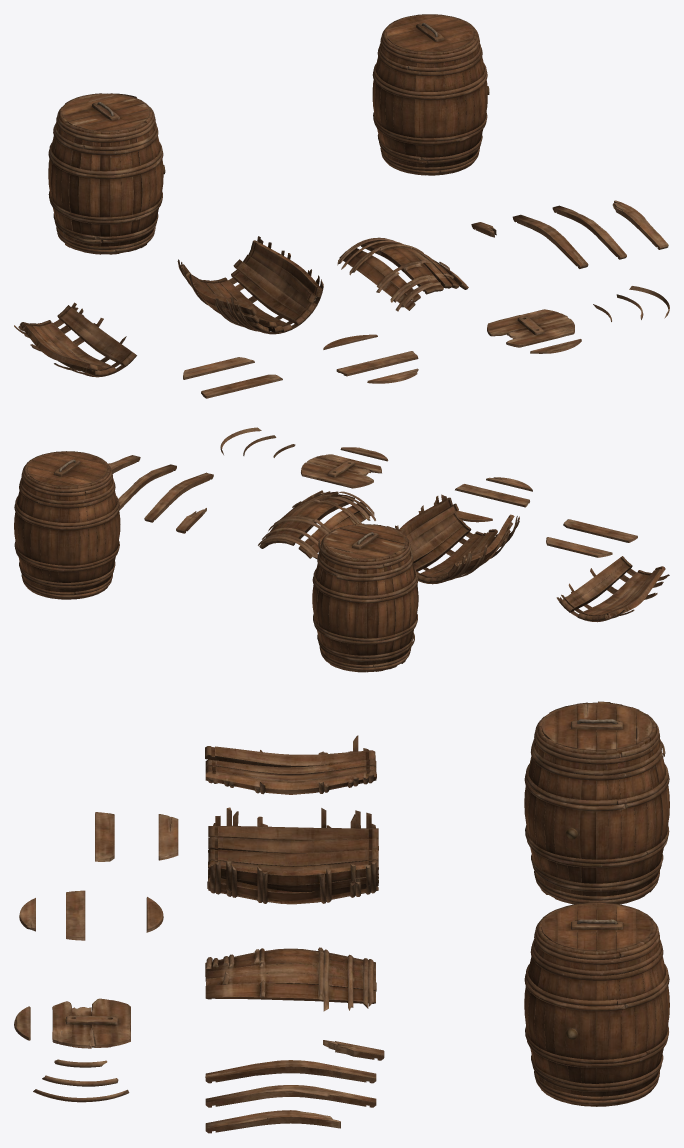
The model's file is wooden_barrels_01.glb.
3 renders of one model, top to bottom at view 1: azimuth 30°, elevation 25°; view 2: azimuth 150°, elevation 25°; view 3: azimuth 270°, elevation 25°, orthographic. The views are drawn at different scales.
Parts seen in each view (by area): view 1: wooden_barrels_01_barrel02, wooden_barrels_01_barrel01, wooden_barrels_01_piece01, wooden_barrels_01_piece03, wooden_barrels_01_piece02, wooden_barrels_01_piece08, wooden_barrels_01_piece04, wooden_barrels_01_piece05, wooden_barrels_01_piece06, wooden_barrels_01_piece11, wooden_barrels_01_piece14, wooden_barrels_01_piece13; view 2: wooden_barrels_01_barrel02, wooden_barrels_01_barrel01, wooden_barrels_01_piece01, wooden_barrels_01_piece03, wooden_barrels_01_piece02, wooden_barrels_01_piece08, wooden_barrels_01_piece04, wooden_barrels_01_piece14, wooden_barrels_01_piece11, wooden_barrels_01_piece05, wooden_barrels_01_piece13; view 3: wooden_barrels_01_barrel01, wooden_barrels_01_barrel02, wooden_barrels_01_piece01, wooden_barrels_01_piece03, wooden_barrels_01_piece02, wooden_barrels_01_piece08, wooden_barrels_01_piece04, wooden_barrels_01_piece05, wooden_barrels_01_piece06, wooden_barrels_01_piece11, wooden_barrels_01_piece14, wooden_barrels_01_piece13 (+1 smaller).
Boxes of the visible parts, left/top/right/bottom form: wooden_barrels_01_barrel02: left=48, top=93, right=165, bottom=254; wooden_barrels_01_barrel01: left=372, top=14, right=489, bottom=175; wooden_barrels_01_piece01: left=177, top=236, right=323, bottom=334; wooden_barrels_01_piece03: left=337, top=237, right=468, bottom=311; wooden_barrels_01_piece02: left=14, top=302, right=136, bottom=377; wooden_barrels_01_piece08: left=487, top=309, right=574, bottom=347; wooden_barrels_01_piece04: left=512, top=214, right=588, bottom=268; wooden_barrels_01_piece05: left=552, top=205, right=626, bottom=259; wooden_barrels_01_piece06: left=612, top=200, right=668, bottom=249; wooden_barrels_01_piece11: left=336, top=351, right=418, bottom=376; wooden_barrels_01_piece14: left=201, top=374, right=282, bottom=398; wooden_barrels_01_piece13: left=183, top=357, right=254, bottom=379; wooden_barrels_01_barrel02: left=312, top=523, right=418, bottom=672; wooden_barrels_01_barrel01: left=14, top=451, right=120, bottom=599; wooden_barrels_01_piece01: left=395, top=494, right=519, bottom=584; wooden_barrels_01_piece03: left=258, top=490, right=375, bottom=558; wooden_barrels_01_piece02: left=556, top=556, right=669, bottom=622; wooden_barrels_01_piece08: left=301, top=454, right=381, bottom=488; wooden_barrels_01_piece04: left=144, top=472, right=213, bottom=522; wooden_barrels_01_piece14: left=563, top=519, right=637, bottom=542; wooden_barrels_01_piece11: left=455, top=484, right=529, bottom=507; wooden_barrels_01_piece05: left=118, top=464, right=176, bottom=510; wooden_barrels_01_piece13: left=546, top=537, right=612, bottom=557; wooden_barrels_01_barrel01: left=524, top=902, right=669, bottom=1106; wooden_barrels_01_barrel02: left=524, top=701, right=669, bottom=904; wooden_barrels_01_piece01: left=207, top=807, right=378, bottom=904; wooden_barrels_01_piece03: left=205, top=947, right=376, bottom=1011; wooden_barrels_01_piece02: left=205, top=735, right=376, bottom=794; wooden_barrels_01_piece08: left=52, top=998, right=130, bottom=1048; wooden_barrels_01_piece04: left=205, top=1060, right=376, bottom=1083; wooden_barrels_01_piece05: left=205, top=1085, right=376, bottom=1107; wooden_barrels_01_piece06: left=205, top=1110, right=340, bottom=1133; wooden_barrels_01_piece11: left=66, top=890, right=85, bottom=940; wooden_barrels_01_piece14: left=95, top=812, right=114, bottom=861; wooden_barrels_01_piece13: left=158, top=814, right=178, bottom=860.
Size of the model in its own units: 4.44 by 0.9555 by 3.34.
3 materials, 3 textured.
